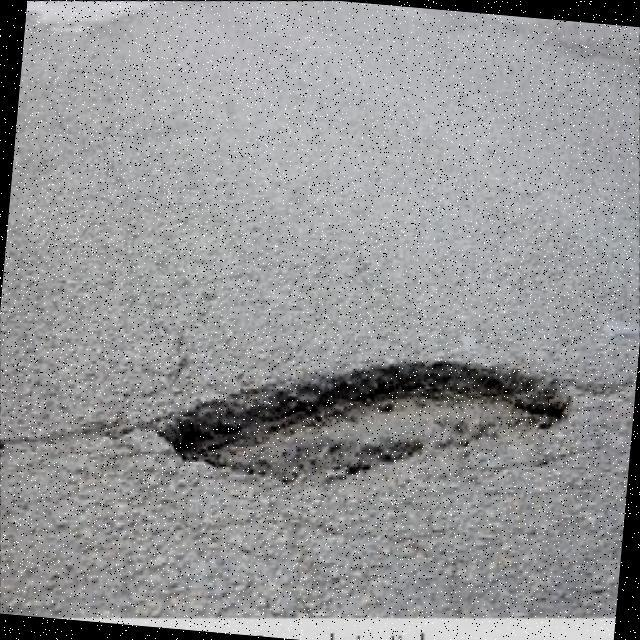Pothole: (157, 361, 566, 474)
